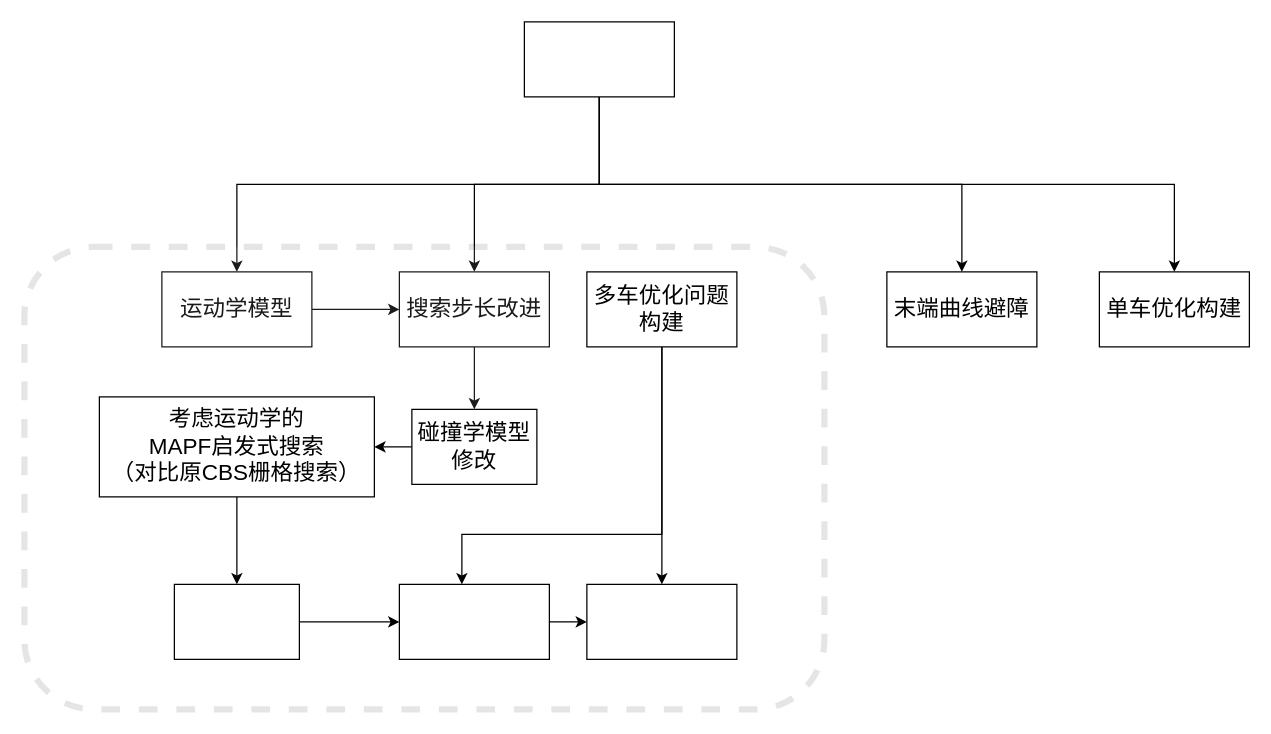
The diagram is 1271 pixels wide and 734 high, and some of its shapes have lost their labels. The shapes that lost their labels are listed below. From the top down, each one's centre as x and y in pixels, then its label:
At [236,621]: "分组优先级优化".
At [473,621]: "矩形走廊构建".
At [661,621]: "异形走廊构建".
